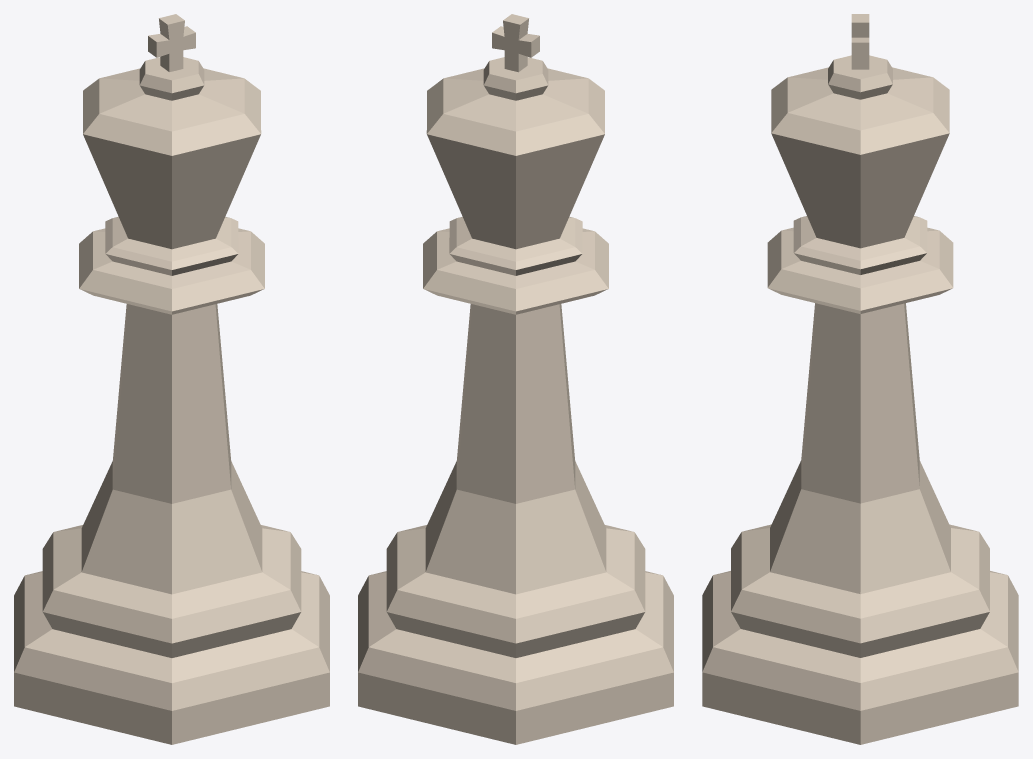
The model's file is KingLight.fbx.
3 views of the same model, side by side, from view 1: azimuth 30°, elevation 25°; view 2: azimuth 150°, elevation 25°; view 3: azimuth 270°, elevation 25° (orthographic).
Parts seen in each view (by area): view 1: KingLight; view 2: KingLight; view 3: KingLight.
Part boxes in pixels (x1,y1,x2,y2): KingLight: (14, 14, 329, 744); KingLight: (358, 14, 673, 744); KingLight: (702, 14, 1018, 744).
Bounding box in the file's own units: 87.63 × 172 × 75.89.
